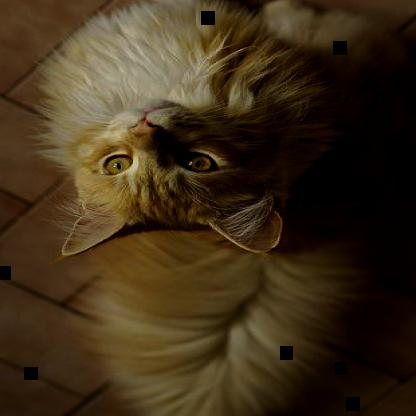cat: (44, 1, 408, 415)
